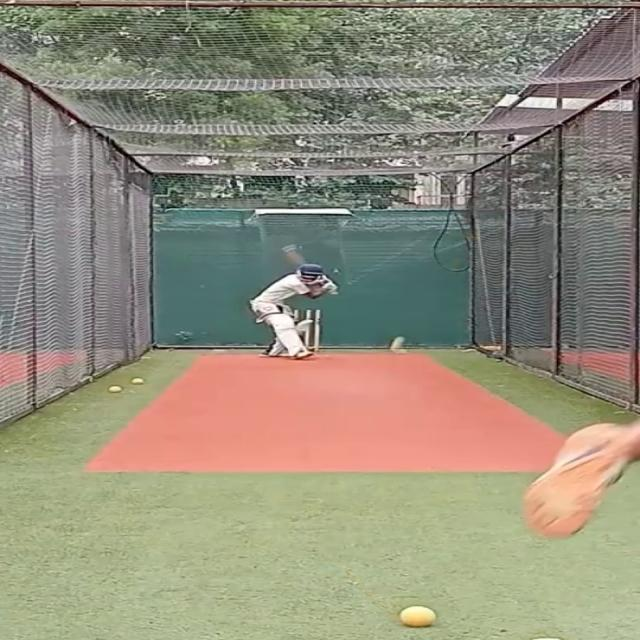ball: (390, 604, 444, 630), (104, 384, 126, 395), (130, 375, 147, 386)
stump: (303, 309, 325, 353)
